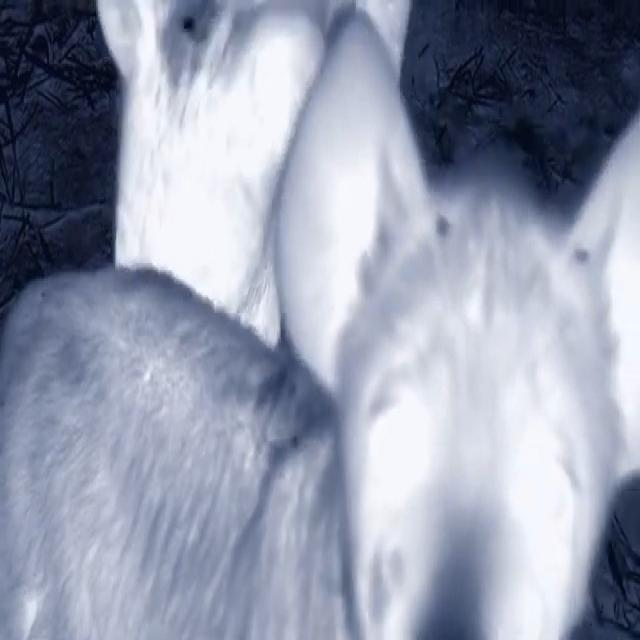animal: (0, 0, 631, 626)
